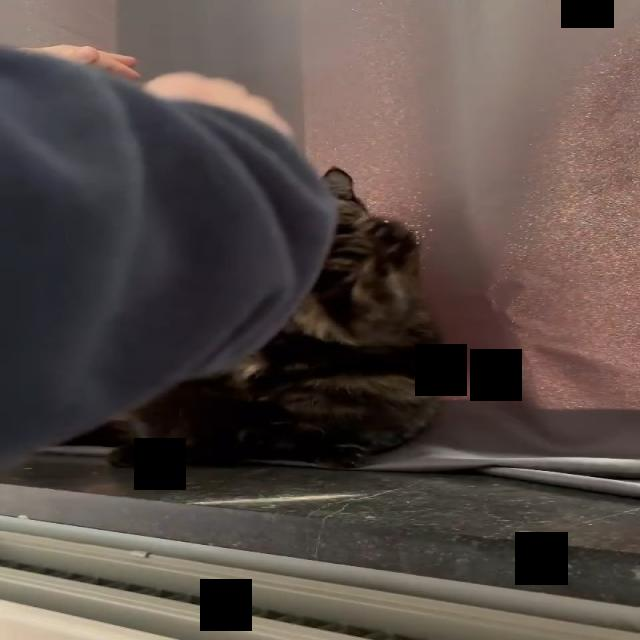authorized: (95, 164, 444, 470)
